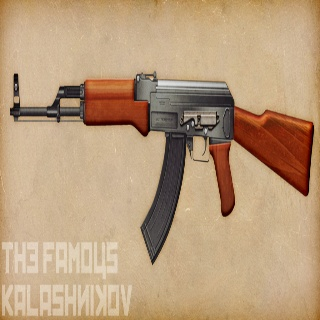rifle: (9, 67, 318, 267)
